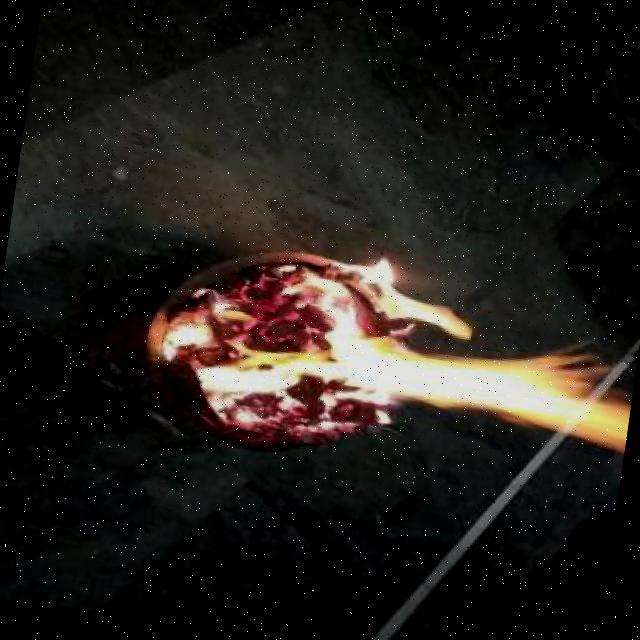fire: (186, 249, 640, 481)
